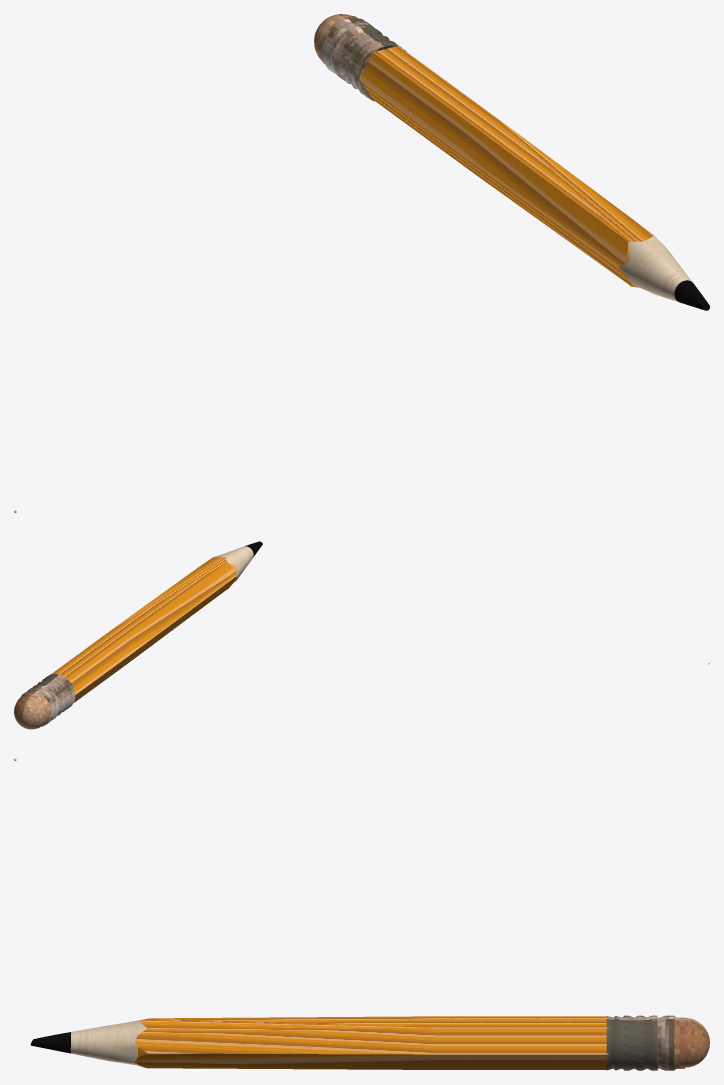
3 views of the same model, one above another, from view 1: azimuth 30°, elevation 25°; view 2: azimuth 150°, elevation 25°; view 3: azimuth 270°, elevation 25° (orthographic). The views are drawn at different scales.
Visible parts, largest first — view 1: Sphere002; view 2: Sphere002; view 3: Sphere002.
Boxes of the visible parts, left/top/right/bottom form: Sphere002: left=14, top=14, right=709, bottom=512; Sphere002: left=14, top=541, right=709, bottom=729; Sphere002: left=14, top=758, right=709, bottom=1070.
Size of the model in its own units: 104 by 7.49 by 96.13.
5 materials, 4 textured.
